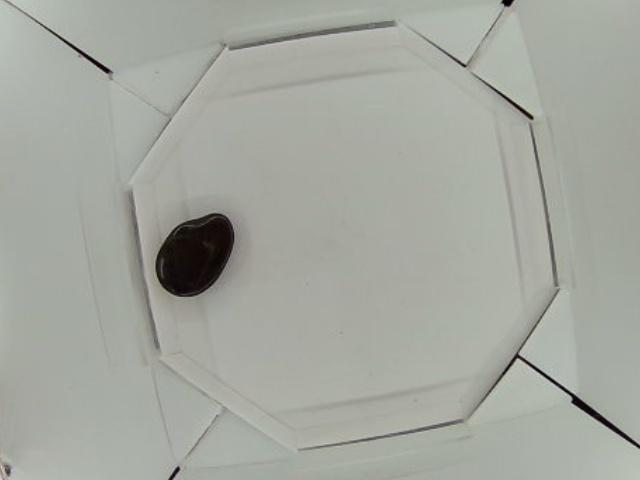Pebble: (159, 212, 234, 300)
